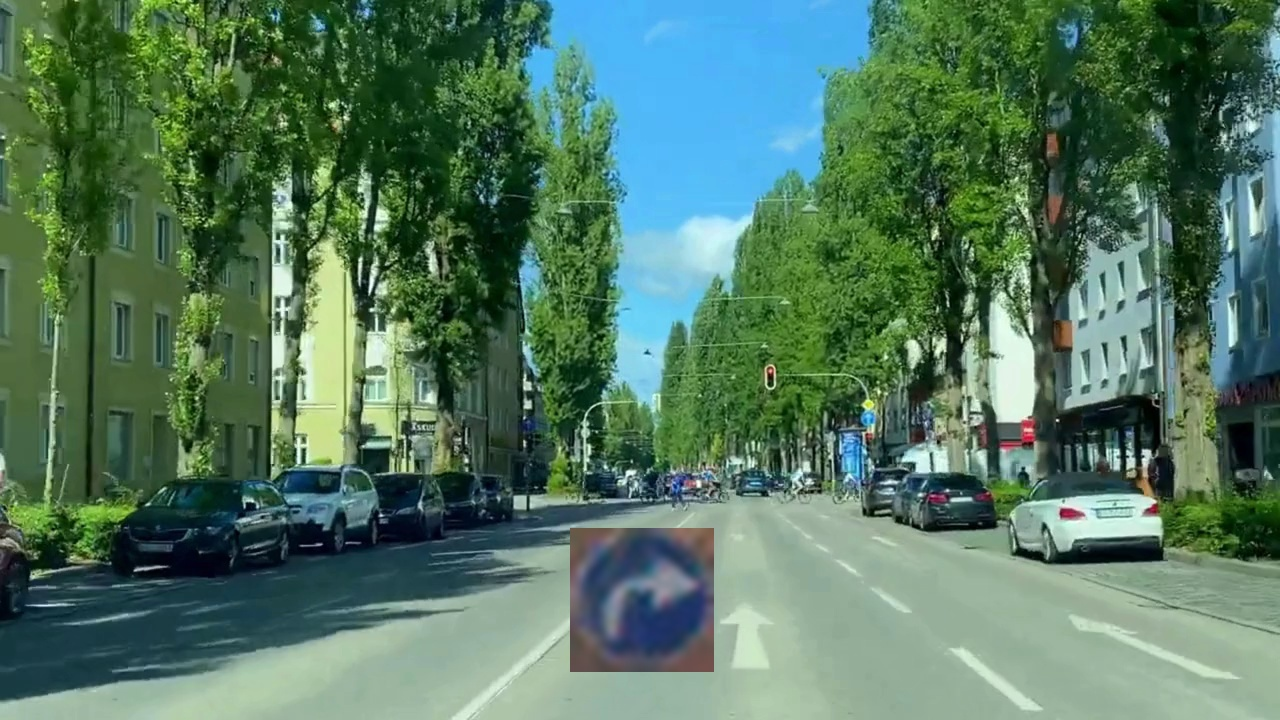Turn right: (570, 528, 714, 672)
